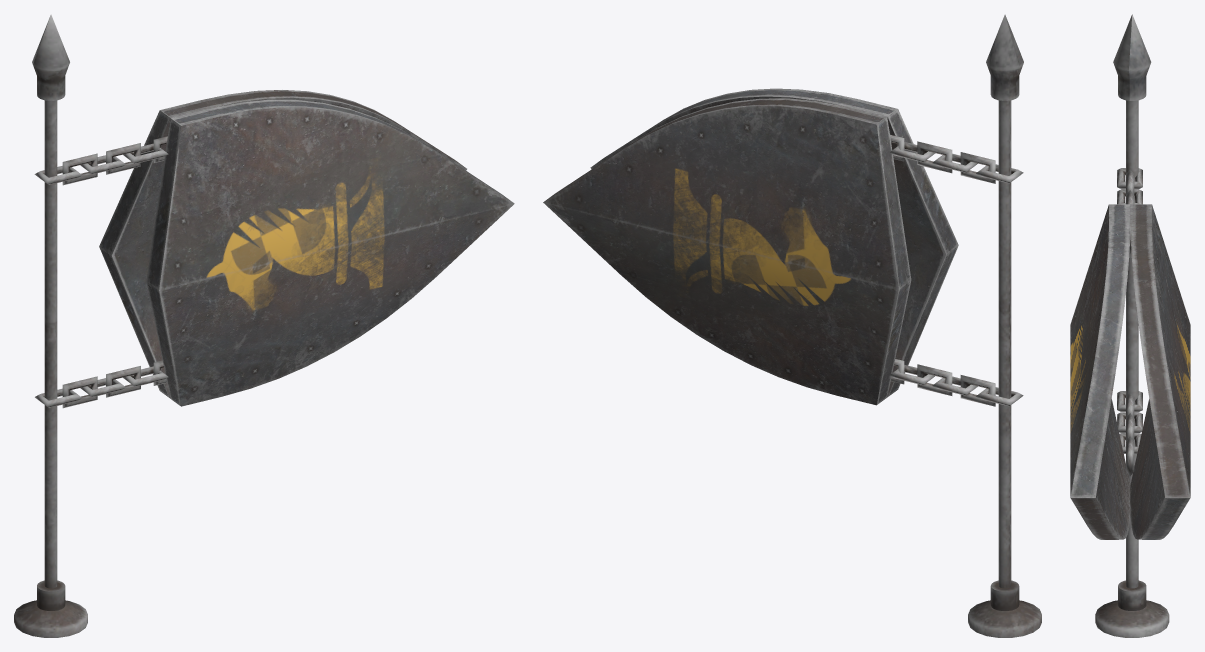
The model's file is SM_Sign06.FBX.
3 views of the same model, side by side, from view 1: azimuth 30°, elevation 25°; view 2: azimuth 150°, elevation 25°; view 3: azimuth 270°, elevation 25° (orthographic).
Visible parts, largest first — view 1: SM_Sign06; view 2: SM_Sign06; view 3: SM_Sign06.
Part boxes in pixels (box(x1,y1,x2,y2)): SM_Sign06: box(14, 14, 514, 637); SM_Sign06: box(543, 14, 1041, 637); SM_Sign06: box(1070, 14, 1190, 637).
Bounding box in the file's own units: 72.09 × 16.14 × 90.29.
